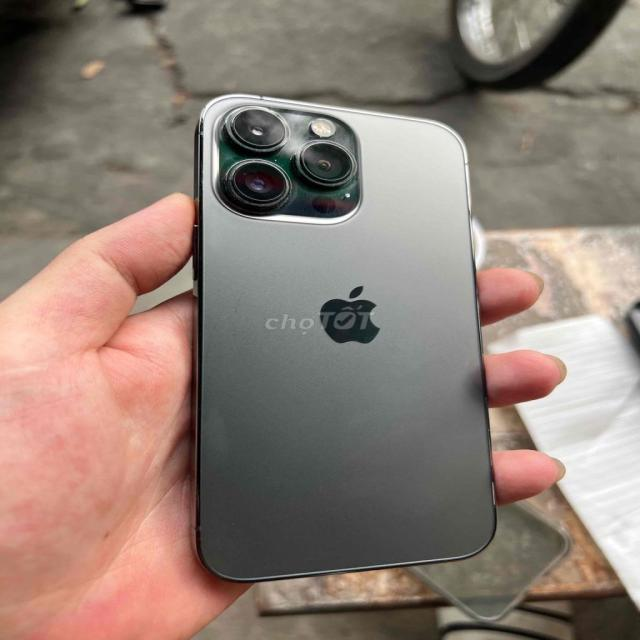gen_12_13: (187, 89, 501, 581)
